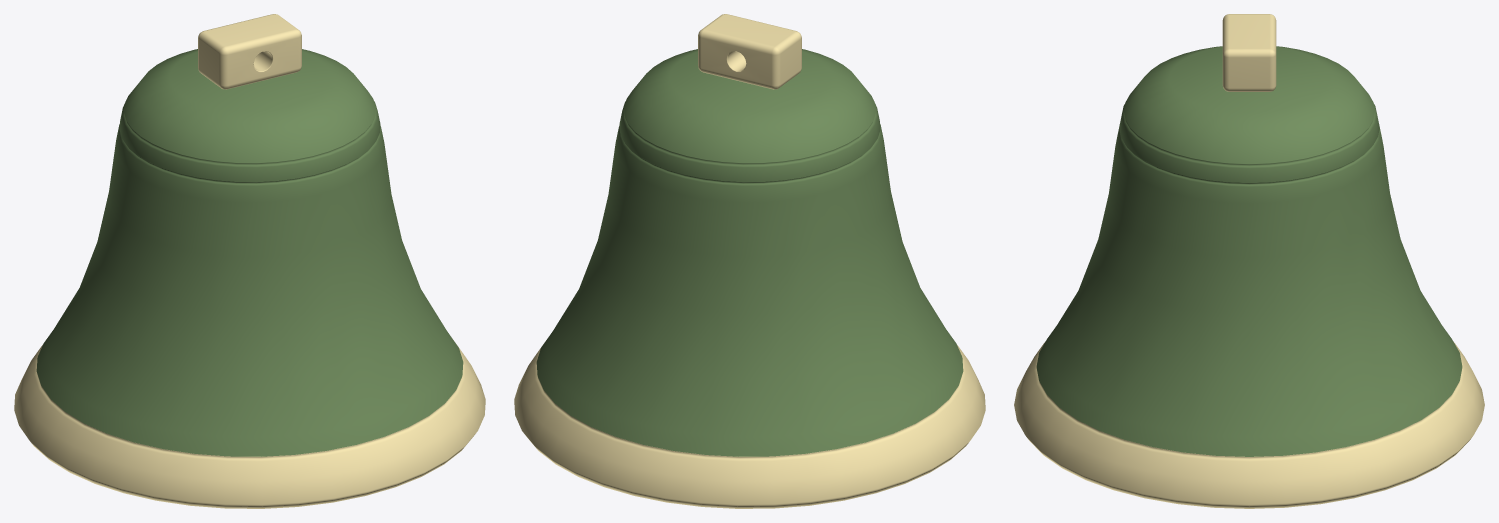
3 views of the same model, side by side, from view 1: azimuth 30°, elevation 25°; view 2: azimuth 150°, elevation 25°; view 3: azimuth 270°, elevation 25° (orthographic).
Parts seen in each view (by area): view 1: BellShell, Headstock; view 2: BellShell, Headstock; view 3: BellShell, Headstock.
Boxes of the visible parts, x1,y1,x2,y2 form: BellShell: (14, 49, 485, 508); Headstock: (198, 14, 301, 89); BellShell: (514, 49, 985, 508); Headstock: (698, 14, 801, 89); BellShell: (1014, 46, 1484, 508); Headstock: (1222, 14, 1276, 91).
Size of the model in its own units: 0.07 by 0.0683 by 0.07.
